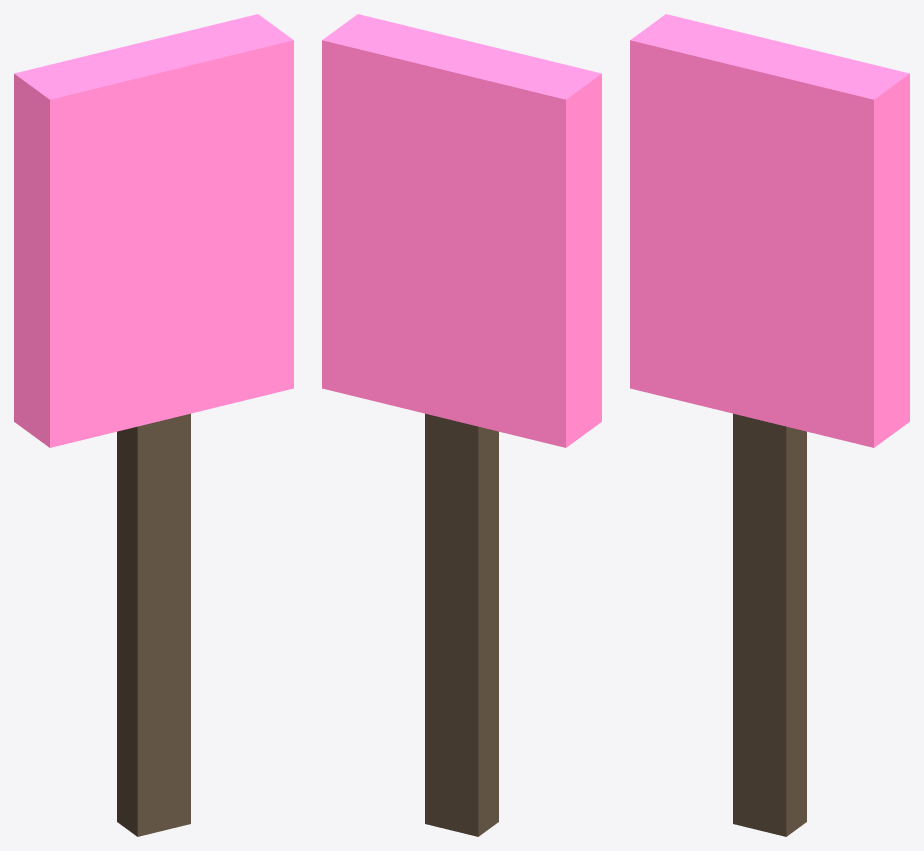
File: bass.glb
The picture shows the model from 3 angles, left to right: view 1: azimuth 30°, elevation 25°; view 2: azimuth 150°, elevation 25°; view 3: azimuth 330°, elevation 25°; orthographic projection.
Bounding box in the file's own units: 0.55 × 1.65 × 0.14.
